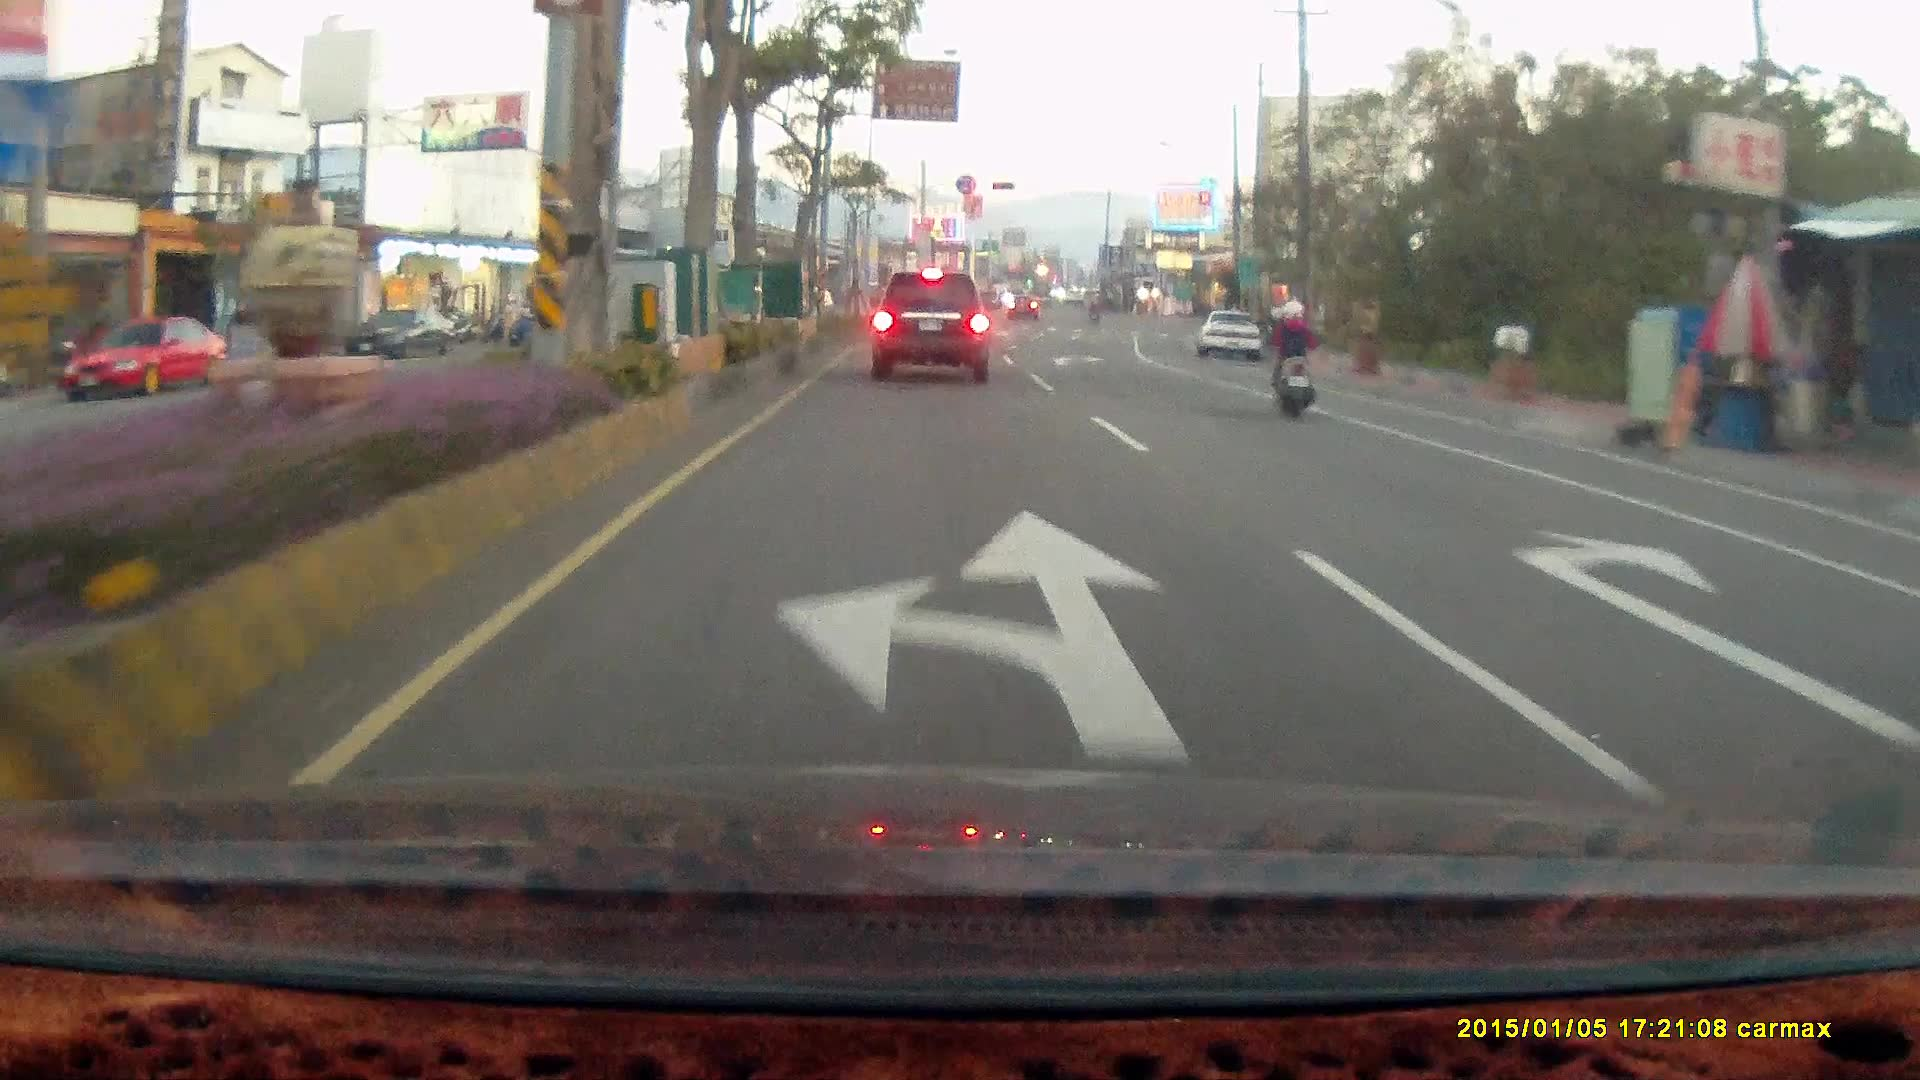rider: (1264, 295, 1319, 422)
vehicle: (62, 312, 226, 401), (871, 267, 987, 383), (1896, 493, 1920, 836), (1883, 528, 1920, 690), (352, 305, 461, 358), (1196, 309, 1264, 363), (1196, 307, 1263, 360)
